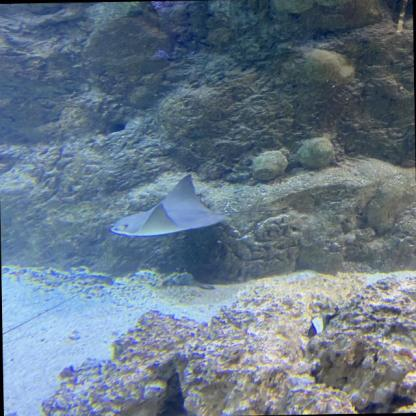stingray: (109, 173, 228, 236)
